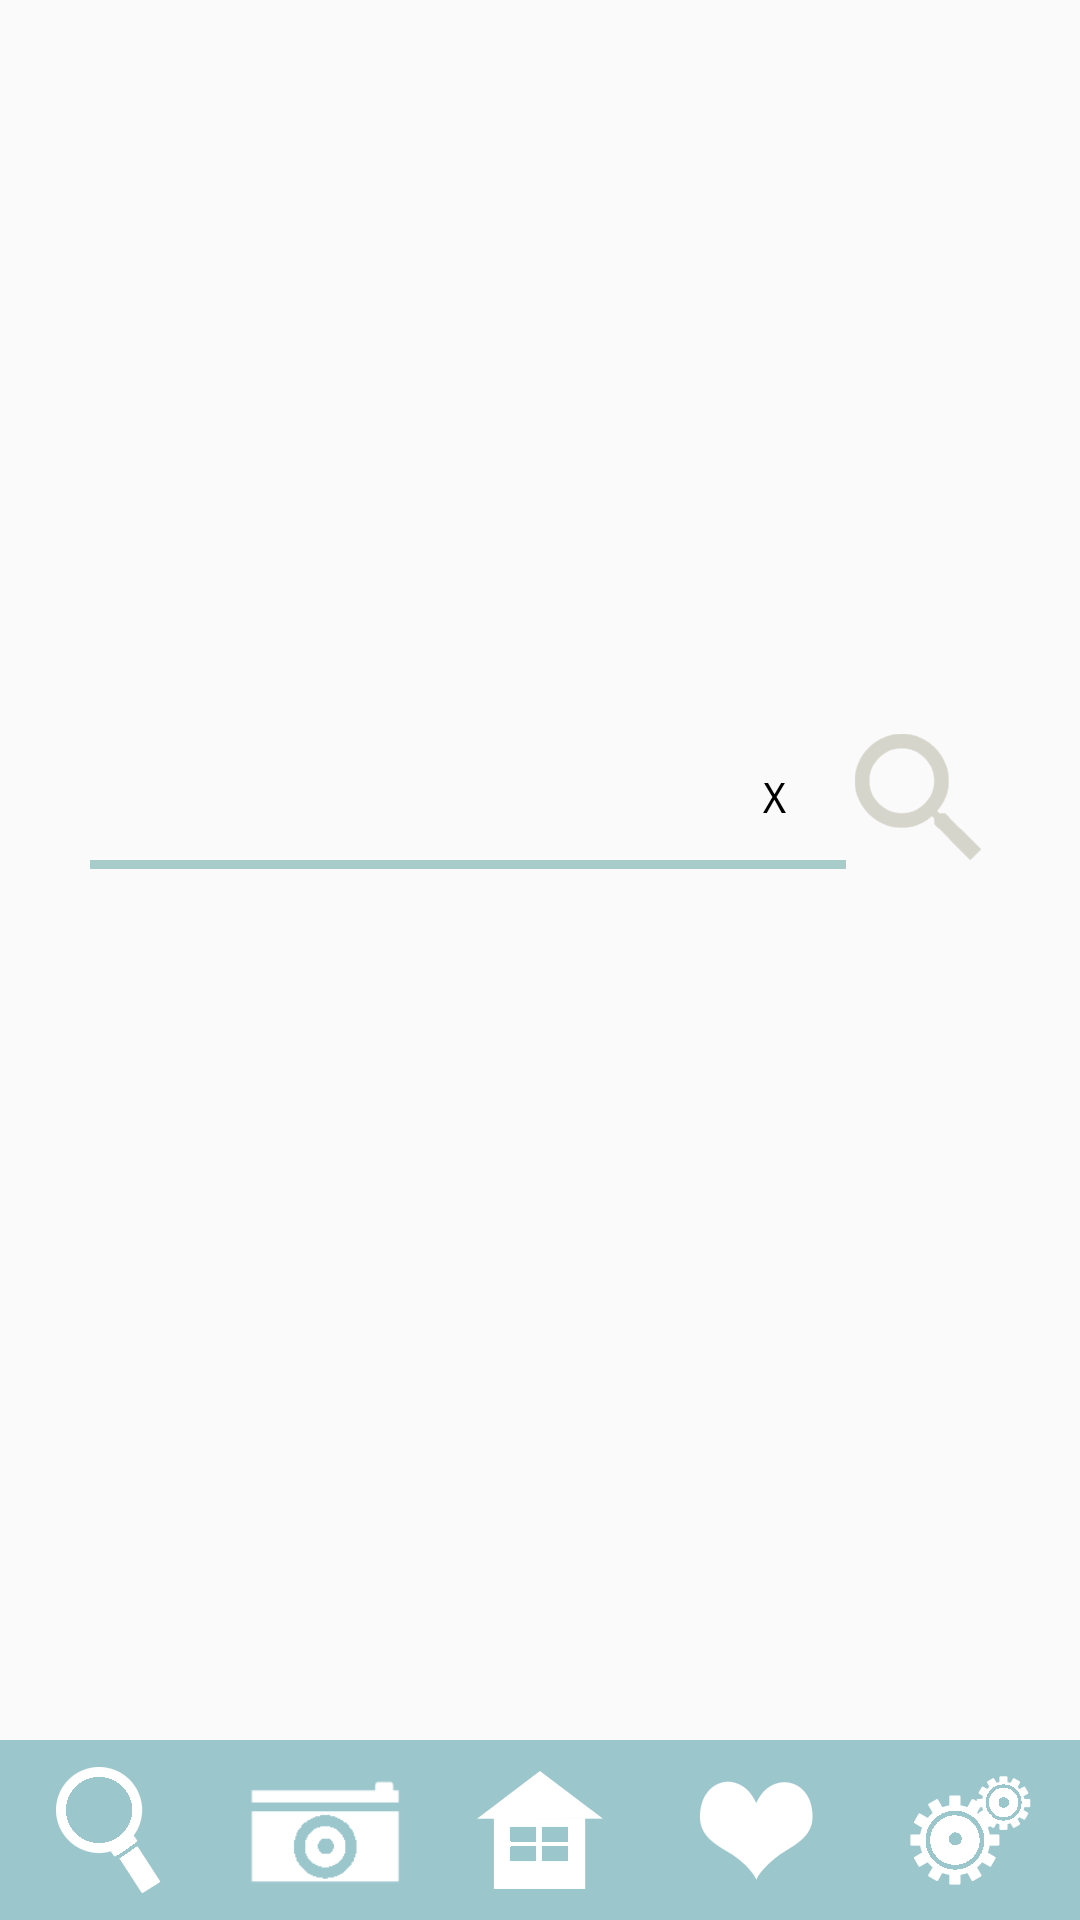

Named icons in this screenshot (1080*1920) and their bounding boxes, (left=x1, top=y1, right=x2, bottom=y2):
home: (left=477, top=1771, right=603, bottom=1889)
like: (left=700, top=1781, right=813, bottom=1880)
search: (left=855, top=734, right=981, bottom=860), (left=56, top=1767, right=160, bottom=1893)
setting: (left=910, top=1776, right=1031, bottom=1885)
